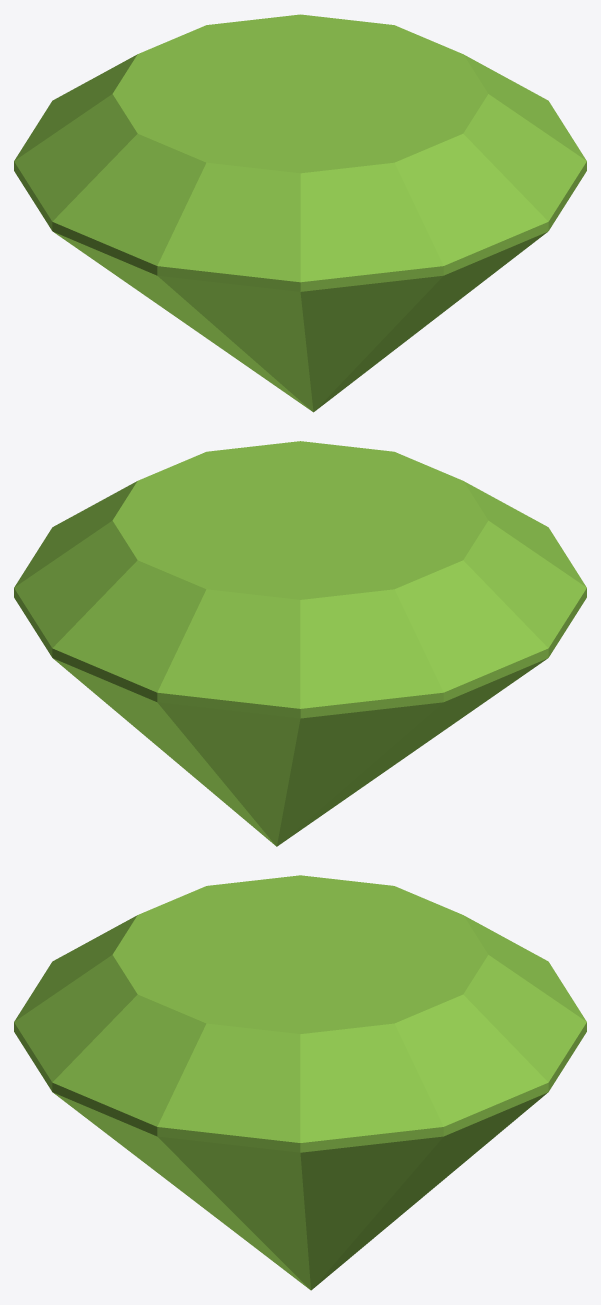
3 renders of one model, top to bottom at view 1: azimuth 30°, elevation 25°; view 2: azimuth 150°, elevation 25°; view 3: azimuth 270°, elevation 25°, orthographic.
Visible parts, largest first — view 1: mesh_655375255; view 2: mesh_655375255; view 3: mesh_655375255.
Part boxes in pixels (bbox=[...]): mesh_655375255: bbox=[14, 14, 586, 412]; mesh_655375255: bbox=[14, 441, 586, 846]; mesh_655375255: bbox=[14, 875, 586, 1290].
Size of the model in its own units: 54 by 34 by 54.
